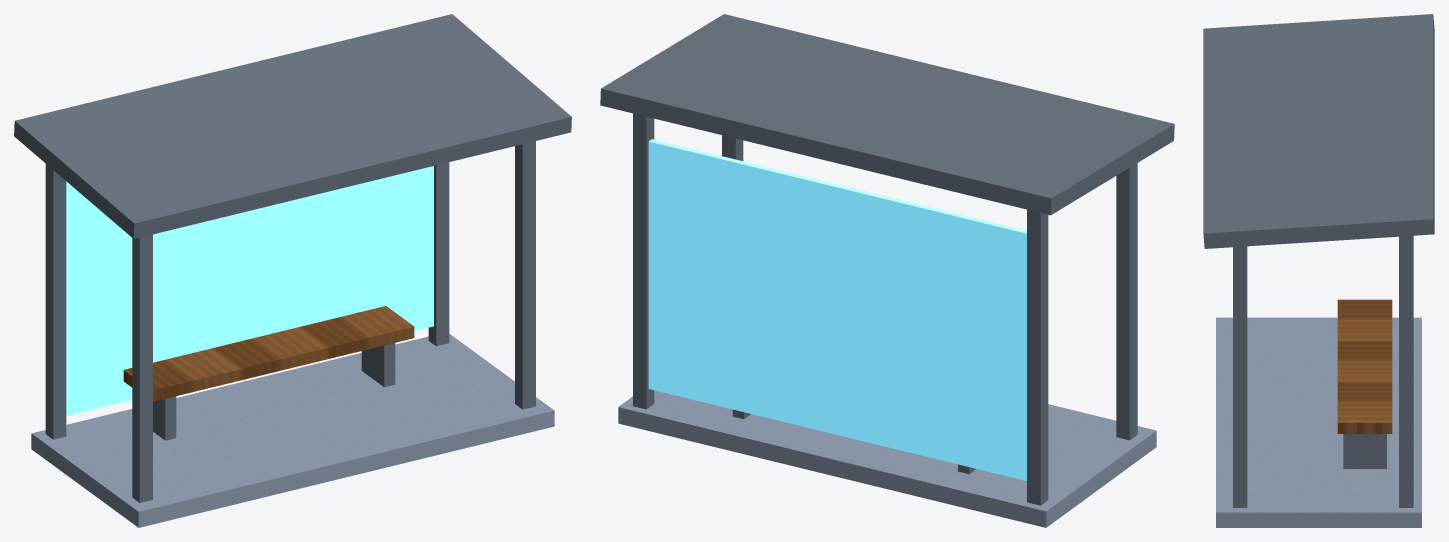
The model's file is bus_stop_shelter.glb.
The picture shows the model from 3 angles, left to right: view 1: azimuth 30°, elevation 25°; view 2: azimuth 150°, elevation 25°; view 3: azimuth 270°, elevation 25°; orthographic projection. The views are drawn at different scales.
Visible parts, largest first — view 1: bus_stop_shelter; view 2: bus_stop_shelter; view 3: bus_stop_shelter.
Boxes of the visible parts, <box> form: bus_stop_shelter: <box>14,14,571,527</box>; bus_stop_shelter: <box>600,14,1174,527</box>; bus_stop_shelter: <box>1203,14,1434,527</box>.
Size of the model in its own units: 4 by 2.86 by 1.91.
4 materials, 2 textured.
